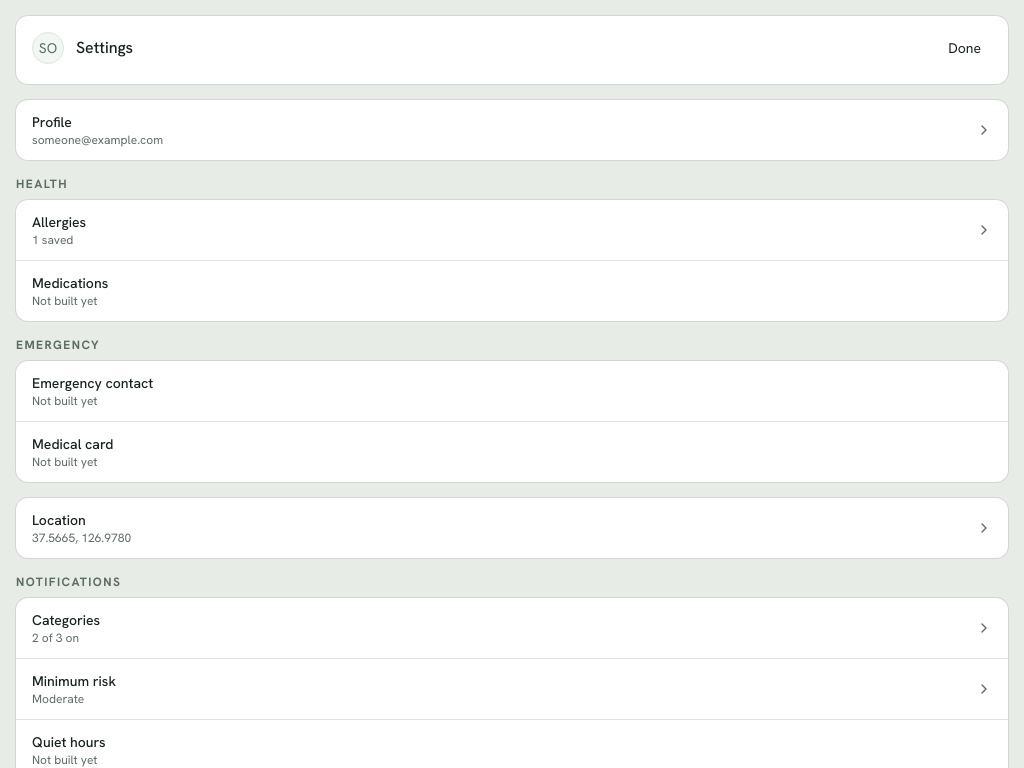
Test: SettingsPage profile and health screens › adds an allergy and shows it on the row behind
Step 1. Click the button "Allergies 1 saved" → (59, 222), box [16,200,1008,261]
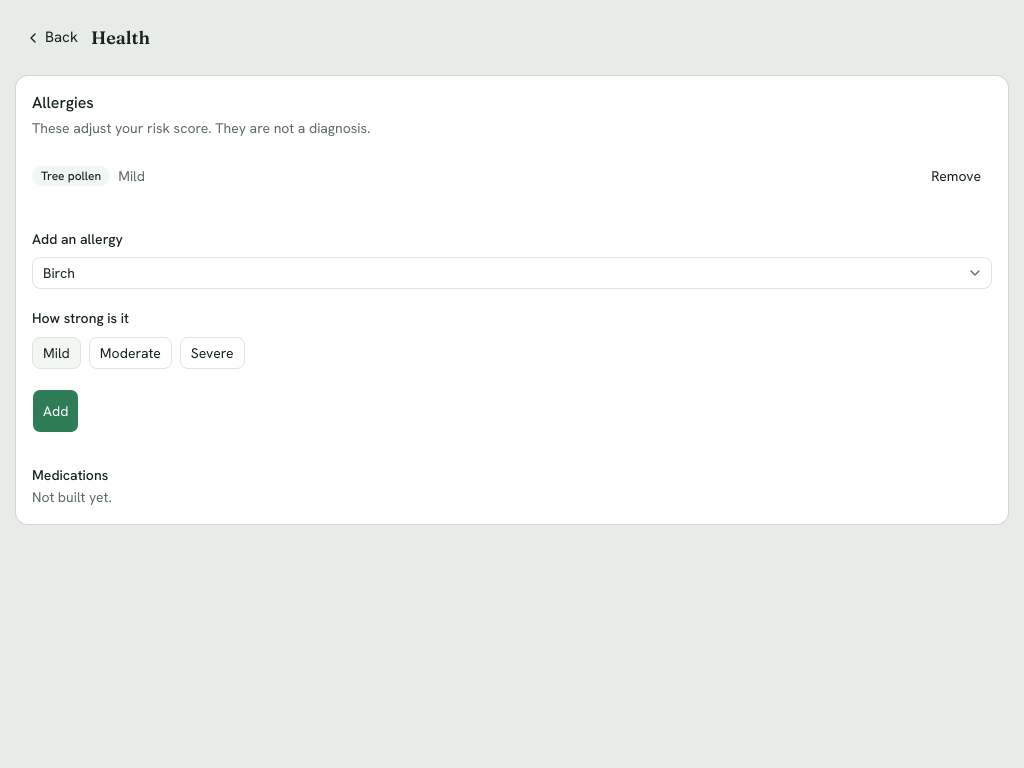
Expected: the text "Birch" is shown, [43,263,75,283]
Step 2. Click the button "Add" → (56, 410), box [32,388,79,432]
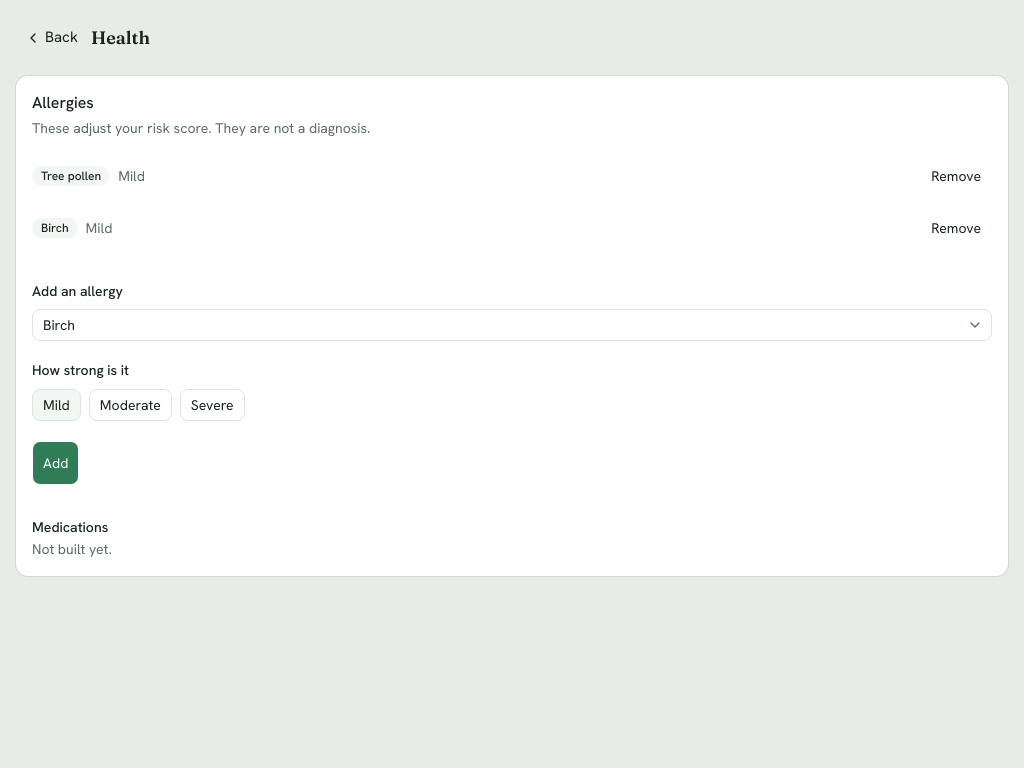
Expected: the button with aria-label "Remove Birch" is shown, [920,206,992,250]
